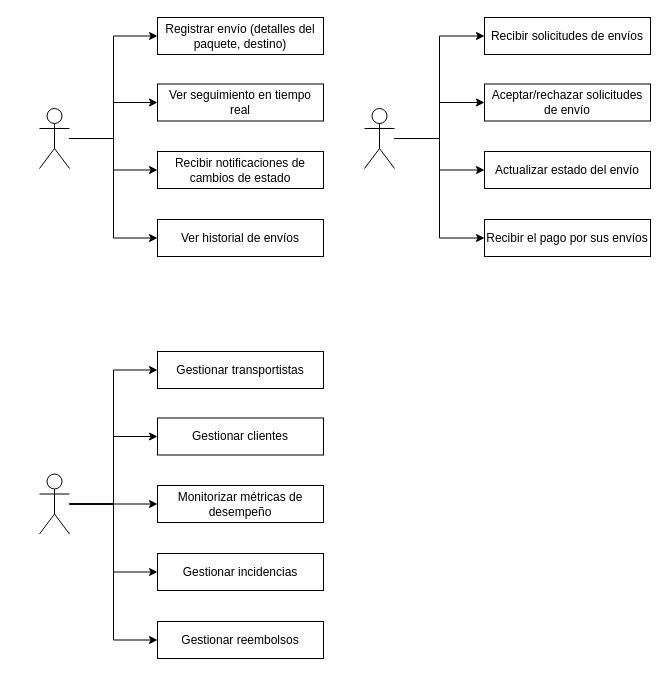
Image size: 668x676. Some labels were removed from this diagram. The box of each missing label's shape, as (x1, y1, x2, y2) in pixels:
Administrador: (38, 473, 70, 534)
Cliente: (38, 108, 70, 168)
Transportista: (364, 108, 394, 168)
